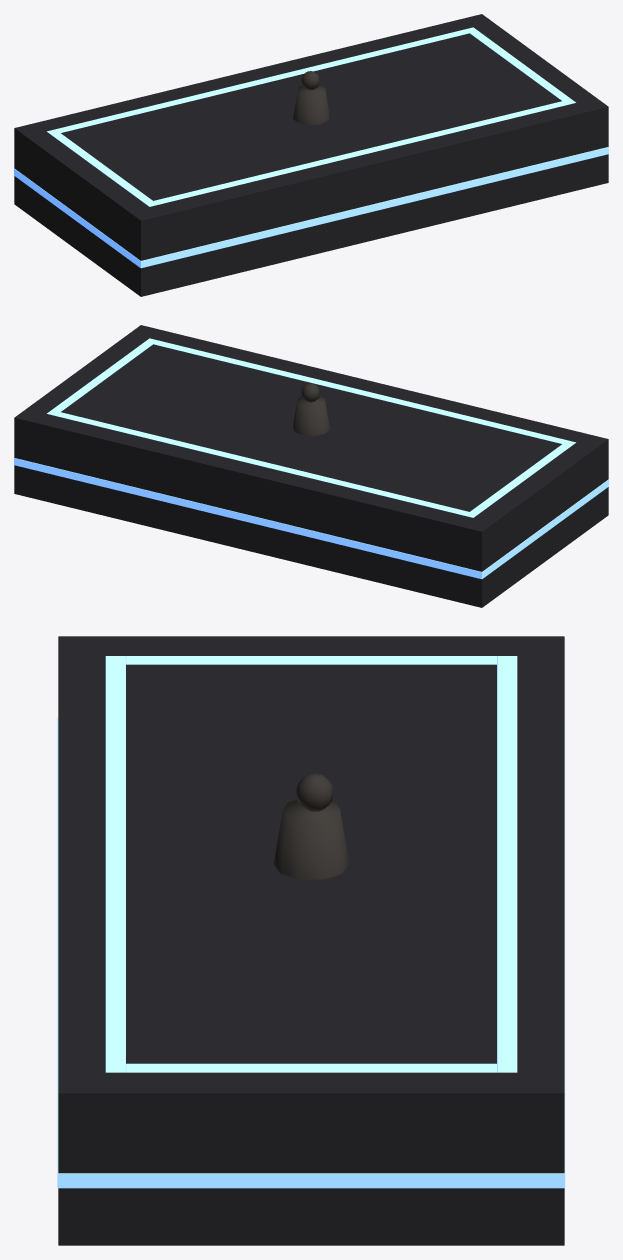
Rendered from movers.glb.
3 renders of one model, top to bottom at view 1: azimuth 30°, elevation 25°; view 2: azimuth 150°, elevation 25°; view 3: azimuth 270°, elevation 25°, orthographic. The views are drawn at different scales.
Parts seen in each view (by area): view 1: Slab, Figure; view 2: Slab, Figure; view 3: Slab, Figure.
Part boxes in pixels (left/top/right/bottom): Slab: left=14, top=14, right=608, bottom=296; Figure: left=293, top=71, right=329, bottom=125; Slab: left=14, top=325, right=608, bottom=607; Figure: left=293, top=383, right=329, bottom=436; Slab: left=57, top=636, right=565, bottom=1245; Figure: left=273, top=773, right=349, bottom=879.
Bounding box in the file's own units: 6.41 × 1.58 × 3.01.
